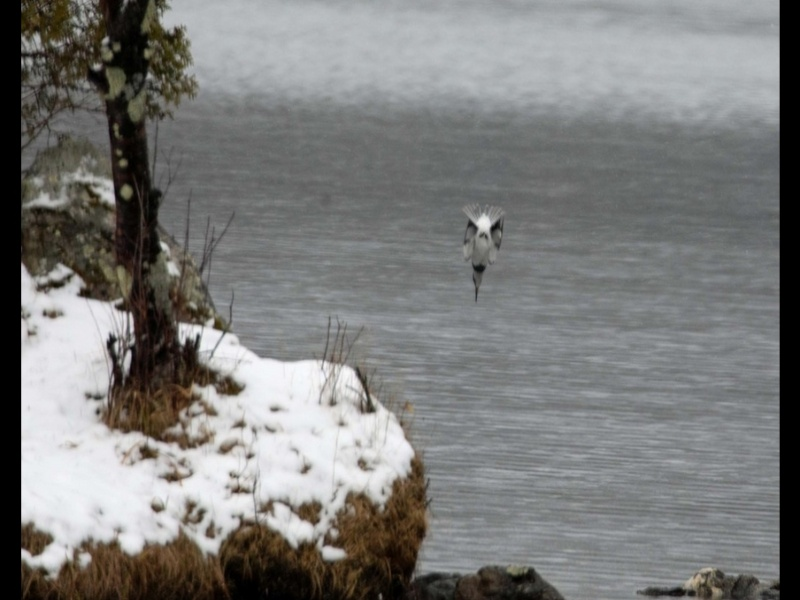kingfisher: (452, 201, 504, 309)
